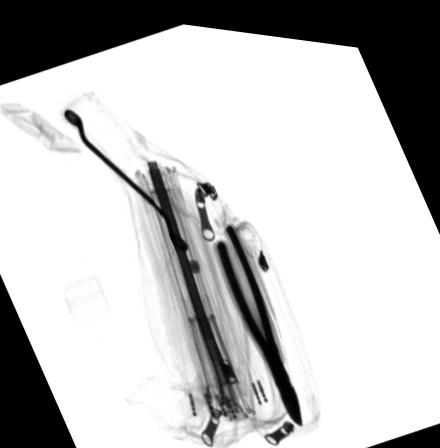Pliers: (216, 216, 304, 420)
Wrench: (62, 107, 189, 246)
